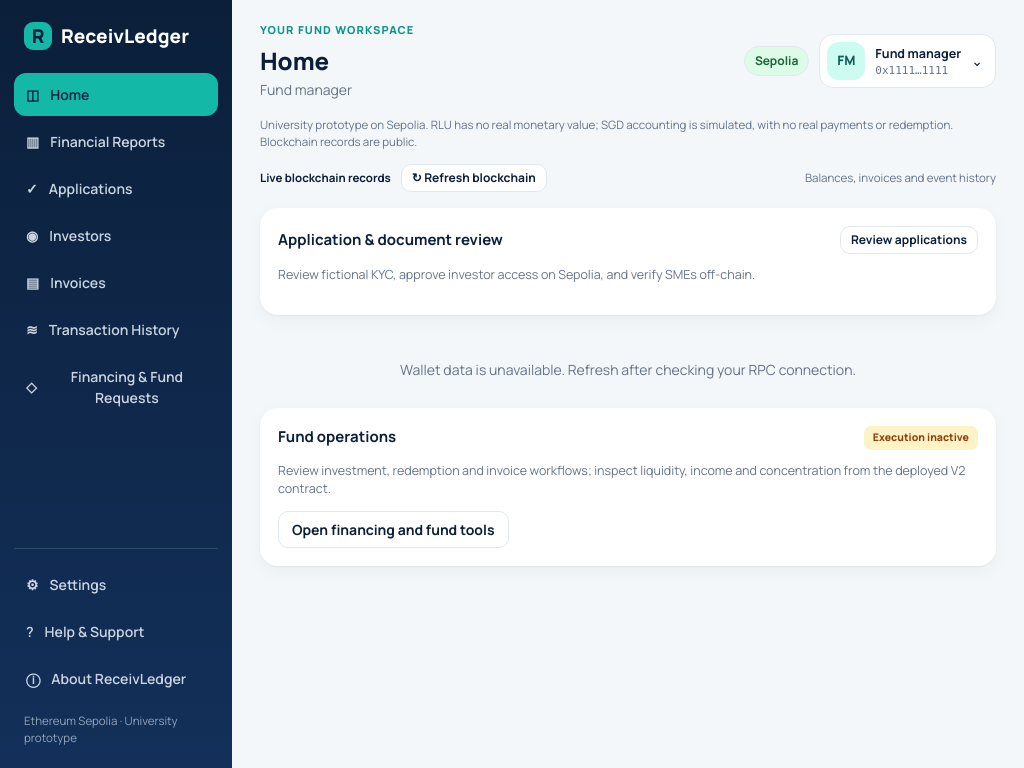
Test case: Stage A wallet navigation and account controls › refreshes both role-specific records and event history
Click the button "↻ Refresh blockchain": x=474, y=178 401,164 -> 547,192
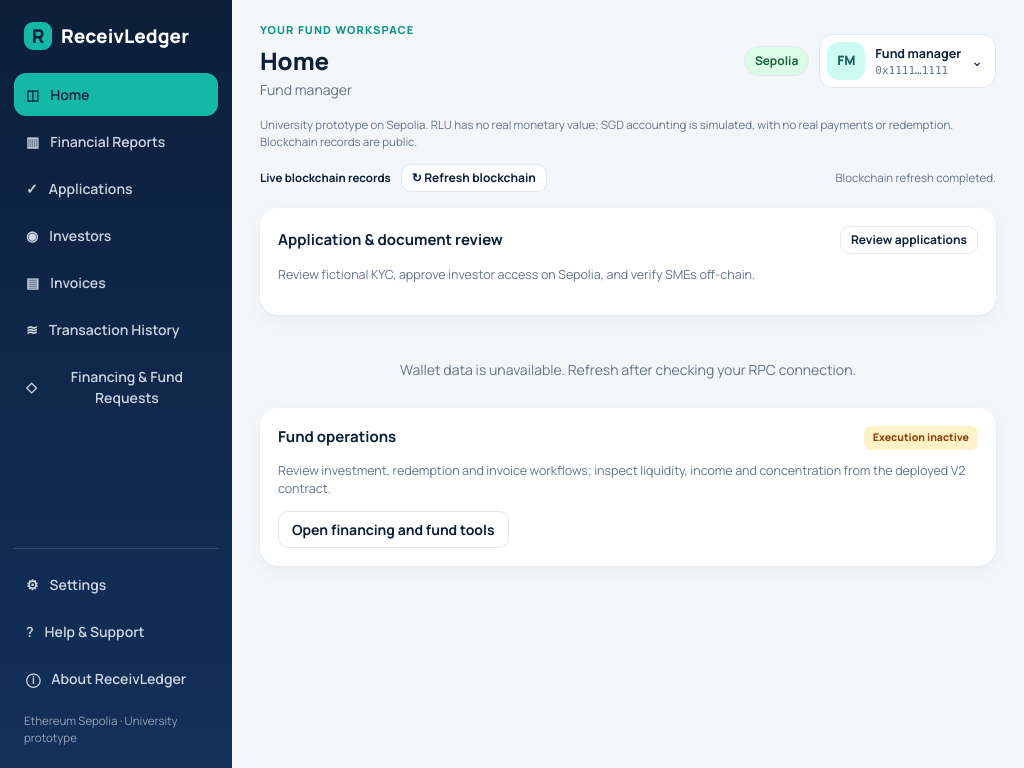
Now the text "Blockchain refresh completed." is shown, box 836,169 -> 996,187
